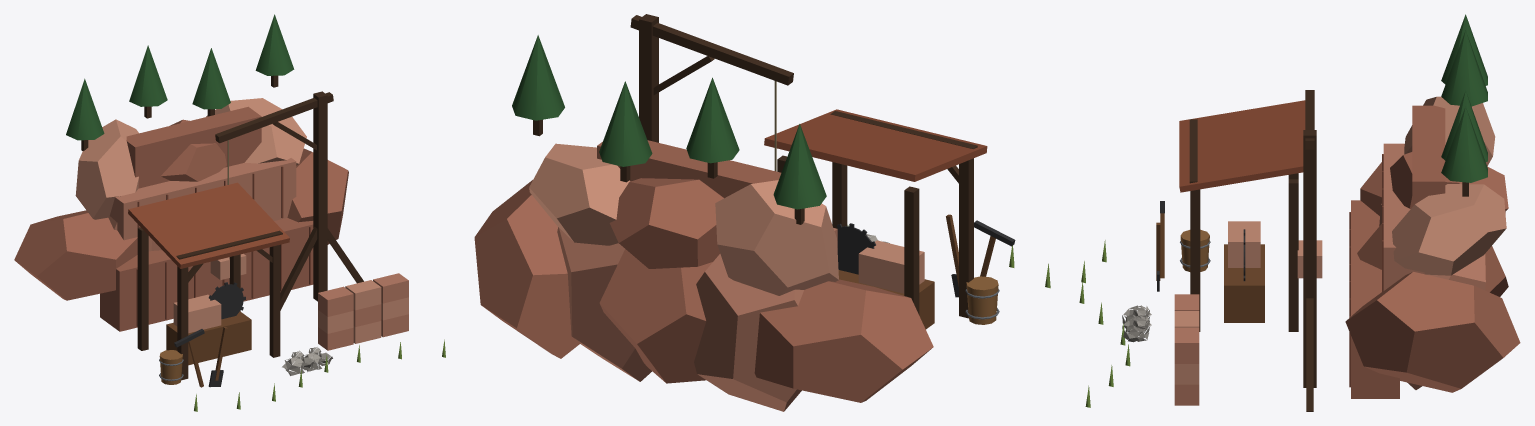
The model's file is steinmine.glb.
The picture shows the model from 3 angles, left to right: view 1: azimuth 30°, elevation 25°; view 2: azimuth 150°, elevation 25°; view 3: azimuth 270°, elevation 25°; orthographic projection. The views are drawn at different scales.
Parts seen in each view (by area): view 1: object 37, object 17, object 1, object 18, object 19, object 6, object 53, object 5, object 8, object 41, object 7, object 33 (+23 smaller); view 2: object 1, object 5, object 6, object 3, object 2, object 7, object 37, object 8, object 4, object 19, object 12, object 10 (+12 smaller); view 3: object 5, object 37, object 8, object 17, object 19, object 53, object 41, object 18, object 16, object 12, object 35, object 7 (+18 smaller).
Part boxes in pixels (x1,y1,x2,y2): object 37: (128, 182, 289, 268); object 17: (100, 218, 313, 331); object 1: (14, 210, 137, 300); object 18: (109, 158, 296, 251); object 19: (126, 106, 261, 188); object 6: (75, 119, 138, 219); object 53: (313, 91, 327, 301); object 5: (287, 148, 348, 244); object 8: (206, 98, 306, 165); object 41: (166, 311, 251, 365); object 7: (161, 119, 226, 181); object 33: (137, 227, 148, 350); object 1: (754, 279, 933, 402); object 5: (474, 180, 580, 358); object 6: (715, 180, 838, 295); object 3: (599, 249, 712, 383); object 2: (694, 254, 803, 411); object 7: (609, 178, 723, 268); object 37: (764, 109, 987, 181); object 8: (529, 143, 630, 245); object 4: (557, 227, 651, 381); object 19: (597, 140, 781, 198); object 12: (686, 77, 739, 163); object 10: (773, 124, 826, 209); object 5: (1345, 271, 1520, 392); object 37: (1179, 100, 1305, 192); object 8: (1392, 184, 1506, 275); object 17: (1351, 200, 1399, 398); object 19: (1412, 105, 1445, 206); object 53: (1303, 130, 1316, 387); object 41: (1224, 244, 1264, 322); object 18: (1383, 143, 1424, 290); object 16: (1441, 106, 1487, 182); object 12: (1441, 30, 1487, 106); object 35: (1288, 179, 1298, 331); object 7: (1390, 152, 1508, 211).
Bounding box in the file's own units: 5.22 × 3.89 × 5.11.
